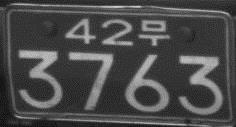2: (100, 17, 133, 46)
3: (177, 55, 224, 116), (17, 49, 63, 109)
4: (64, 17, 96, 44)
6: (124, 53, 170, 112)
7: (67, 51, 115, 110)
무: (138, 19, 170, 45)
